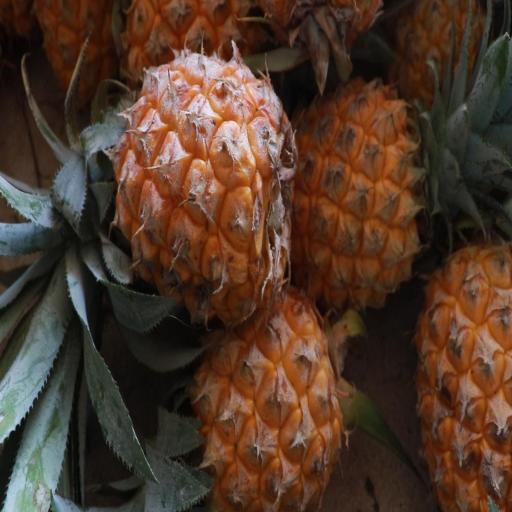Pineapple - v8 v1: (54, 44, 308, 338), (291, 71, 469, 327), (182, 284, 358, 510), (409, 230, 512, 512)
